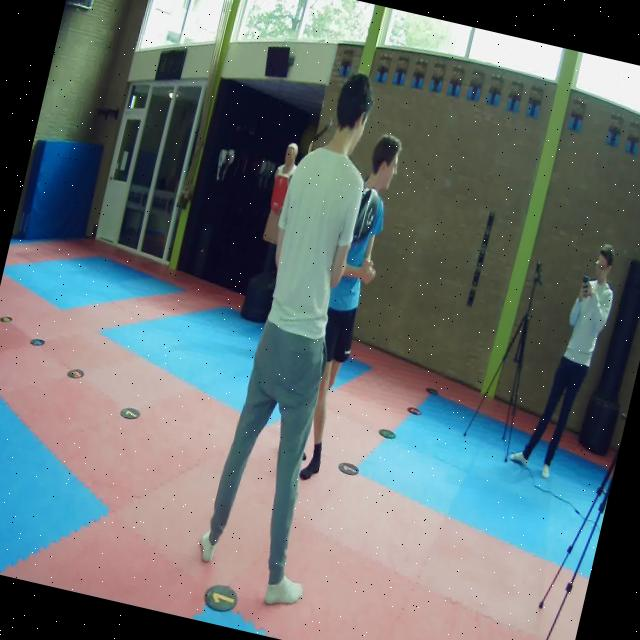paddle: (352, 188, 379, 241)
